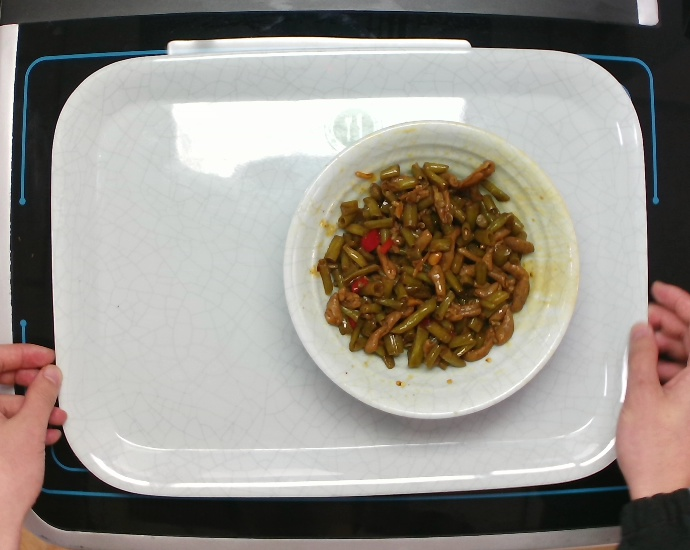JYsf-Xiao_Tang_Wan: (280, 116, 582, 421)
